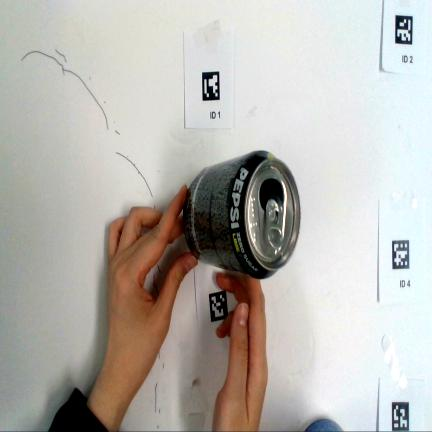can_pepsi_zero: (183, 150, 300, 279)
